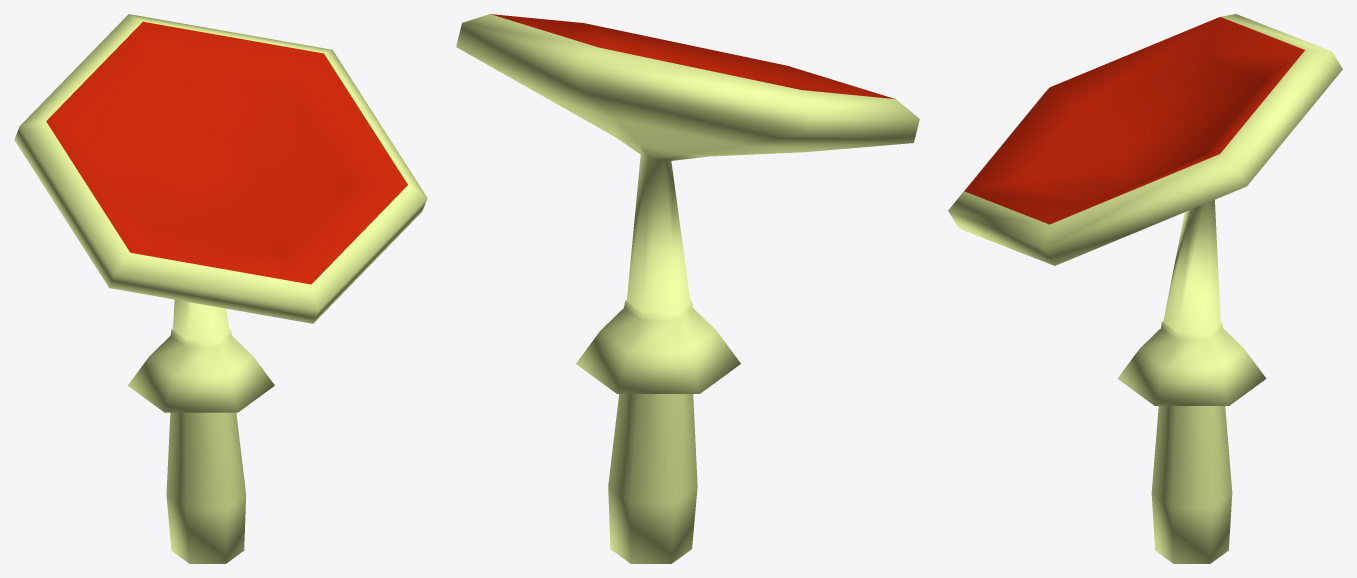
The model's file is fungus orange flatidsh.obj.
The picture shows the model from 3 angles, left to right: view 1: azimuth 30°, elevation 25°; view 2: azimuth 150°, elevation 25°; view 3: azimuth 270°, elevation 25°; orthographic projection. The views are drawn at different scales.
Parts seen in each view (by area): view 1: fungo.041; view 2: fungo.041; view 3: fungo.041.
Boxes of the visible parts, x1,y1,x2,y2 form: fungo.041: (14,14,427,563); fungo.041: (456,14,919,563); fungo.041: (948,14,1342,563).
Size of the model in its own units: 0.9615 by 1.44 by 1.04.
